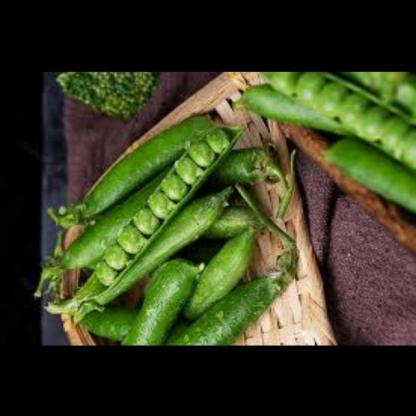beans: (30, 127, 271, 346), (223, 74, 416, 204)
